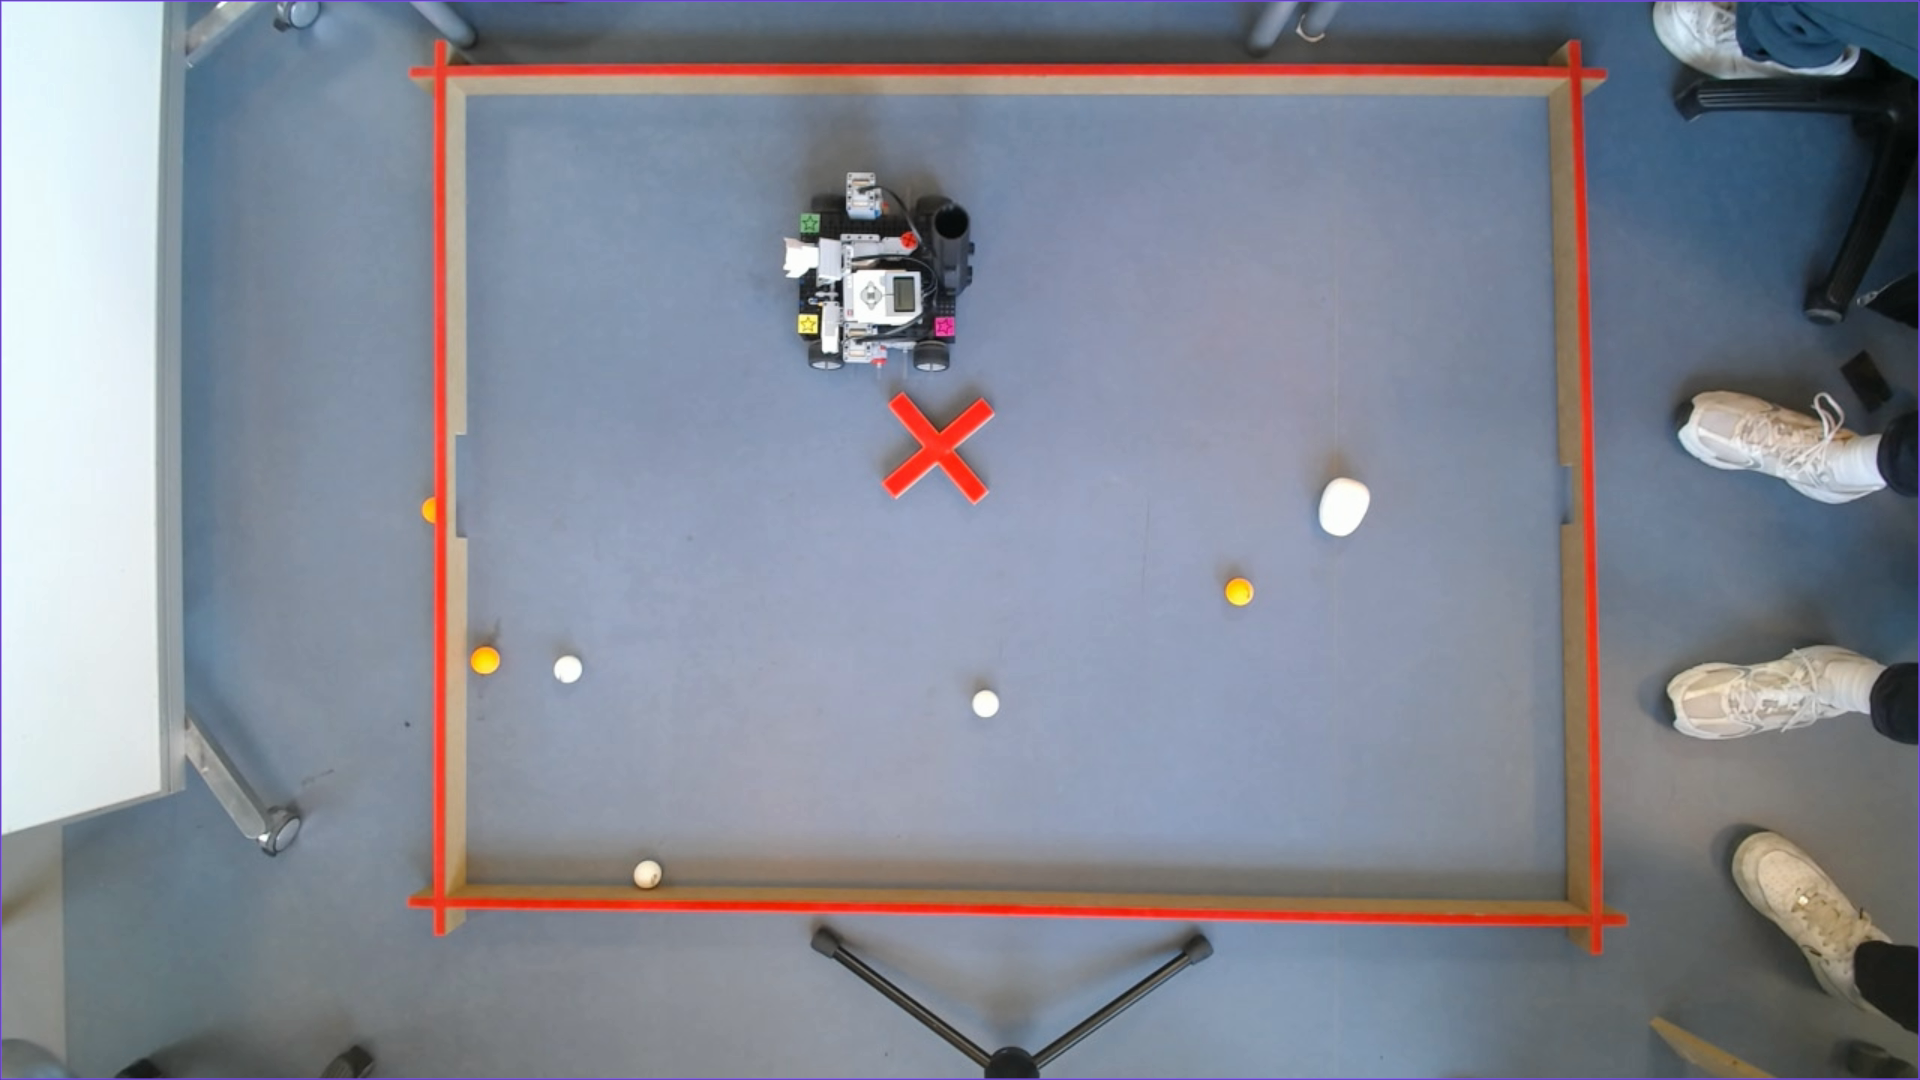ball_orange: (469, 646, 500, 675), (1225, 578, 1254, 607), (422, 497, 435, 524)
ball_white: (633, 860, 662, 889), (554, 655, 582, 683), (972, 690, 1000, 717)
corner_green: (800, 214, 819, 232)
corner_pink: (935, 316, 955, 336)
corner_yellow: (798, 314, 818, 334)
cross: (884, 392, 996, 505)
egg: (1317, 477, 1370, 537)
playfield: (434, 65, 1604, 927)
